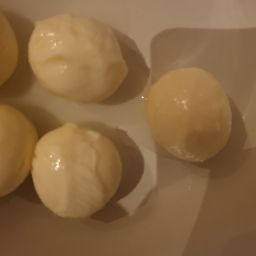Mini Mozzarella Cheese: (130, 62, 237, 173), (27, 14, 132, 107), (34, 119, 133, 215), (2, 96, 47, 204), (2, 10, 28, 93)
